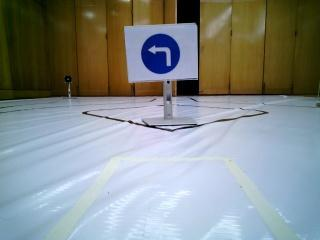left: (130, 28, 201, 78)
